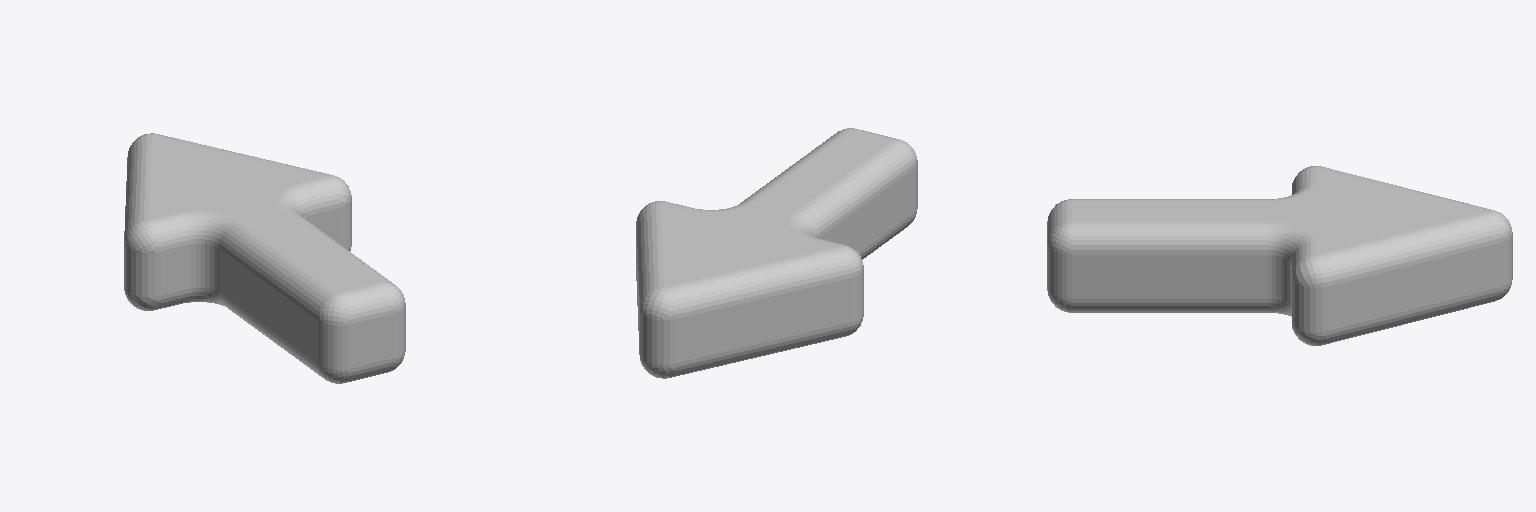
Rendered from arrow.obj.
3 views of the same model, side by side, from view 1: azimuth 30°, elevation 25°; view 2: azimuth 150°, elevation 25°; view 3: azimuth 270°, elevation 25° (orthographic).
Visible parts, largest first — view 1: Bauteil1; view 2: Bauteil1; view 3: Bauteil1.
Boxes of the visible parts, <box> form: Bauteil1: <box>124,133,405,383</box>; Bauteil1: <box>636,128,917,378</box>; Bauteil1: <box>1047,166,1512,345</box>.
Bounding box in the file's own units: 10.47 × 4 × 19.06.